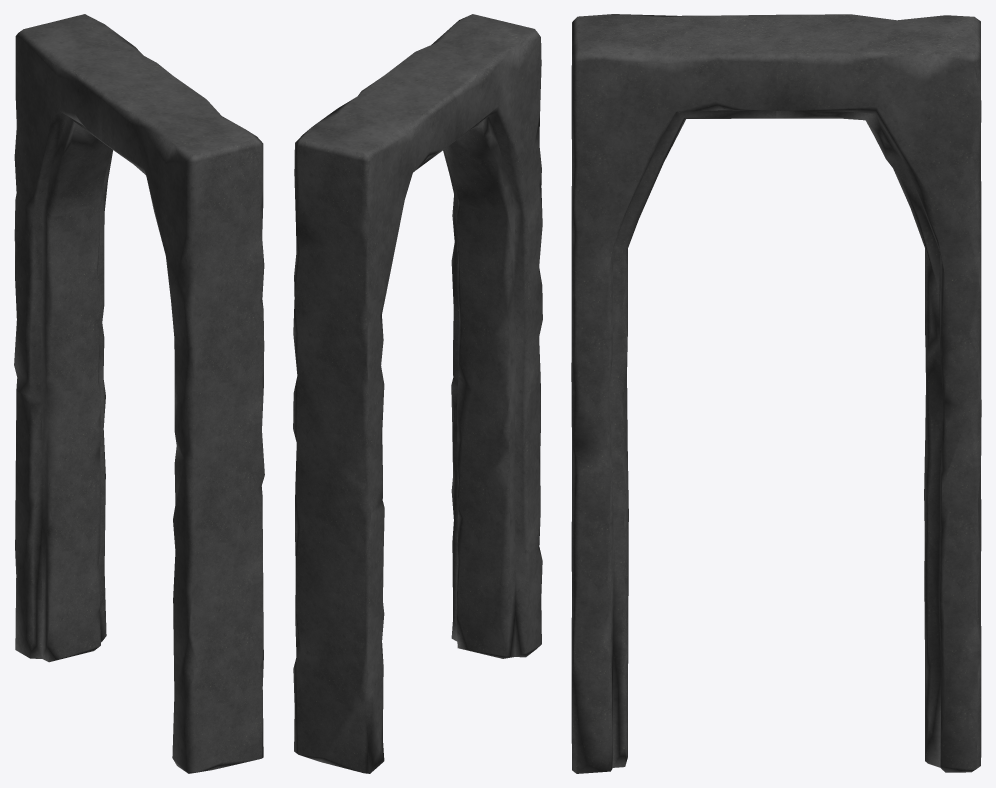
The model's file is SM_EntranceDoor.fbx.
3 renders of one model, left to right at view 1: azimuth 30°, elevation 25°; view 2: azimuth 150°, elevation 25°; view 3: azimuth 270°, elevation 25°, orthographic. The views are drawn at different scales.
Parts seen in each view (by area): view 1: SM_EntranceDoor_LOD0; view 2: SM_EntranceDoor_LOD0; view 3: SM_EntranceDoor_LOD0.
Part boxes in pixels (x1,y1,x2,y2): SM_EntranceDoor_LOD0: (14, 14, 264, 773); SM_EntranceDoor_LOD0: (293, 14, 542, 773); SM_EntranceDoor_LOD0: (571, 14, 981, 773).
Bounding box in the file's own units: 101 × 401 × 775.
Materials: 1 (1 with a texture image).
